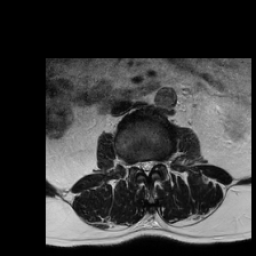CCS_normal: (143, 154, 150, 180)
LFS_severe_stenosis: (156, 155, 162, 169)
LLS_stenosis: (150, 155, 156, 172)
RFS_severe_stenosis: (130, 158, 137, 170)
RLS_stenosis: (137, 156, 144, 171)
